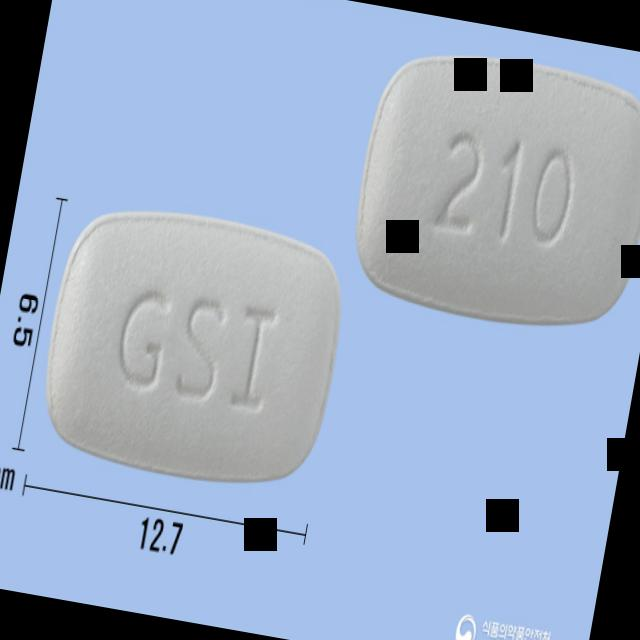Descovy -25mg: (28, 190, 357, 502), (340, 36, 640, 347)
